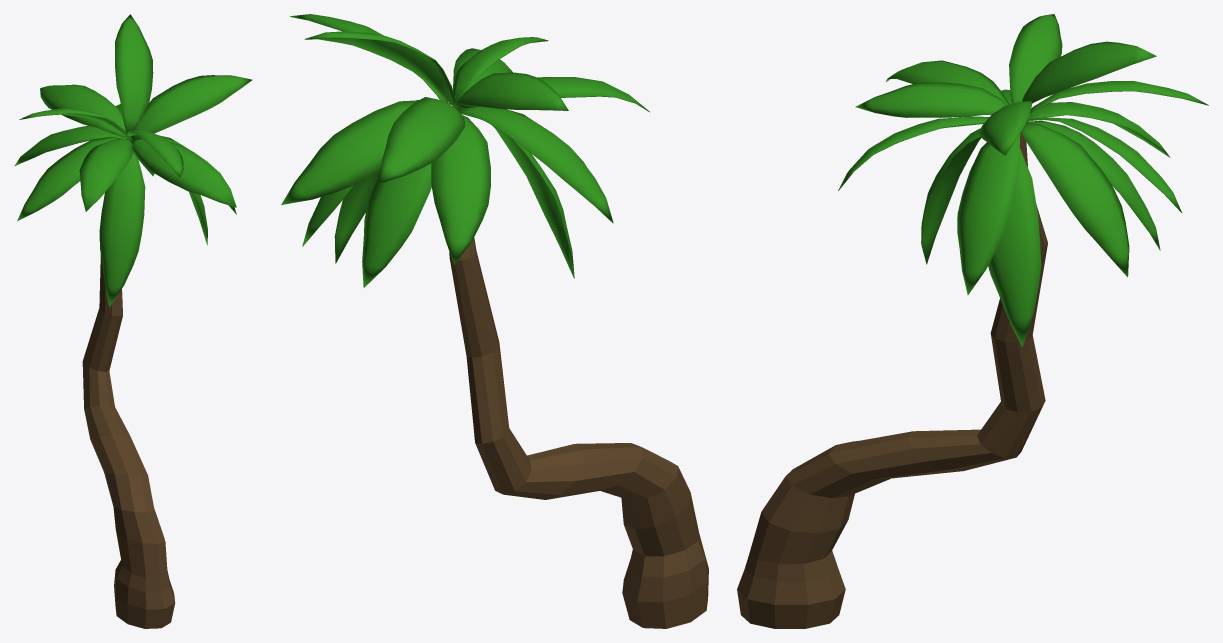
Rendered from Tree.fbx.
3 renders of one model, left to right at view 1: azimuth 30°, elevation 25°; view 2: azimuth 150°, elevation 25°; view 3: azimuth 270°, elevation 25°, orthographic. The views are drawn at different scales.
Visible parts, largest first — view 1: Circle, Sphere.102, Sphere.098, Sphere.103, Sphere.095, Sphere.096, Sphere.089, Sphere.092, Sphere.090, Sphere.099, Sphere.100, Sphere.101; view 2: Circle, Sphere.090, Sphere.094, Sphere.093, Sphere.092, Sphere.089, Sphere.100, Sphere.103, Sphere.102, Sphere.099, Sphere.101, Sphere.096 (+3 smaller); view 3: Circle, Sphere.091, Sphere.097, Sphere.101, Sphere.099, Sphere.103, Sphere.100, Sphere.102, Sphere.093, Sphere.096, Sphere.094, Sphere.090 (+3 smaller).
Boxes of the visible parts, <box> form: Circle: <box>82,139,175,628</box>; Sphere.102: <box>99,151,145,306</box>; Sphere.098: <box>130,75,252,139</box>; Sphere.103: <box>115,14,153,136</box>; Sphere.095: <box>129,139,236,207</box>; Sphere.096: <box>79,138,132,211</box>; Sphere.089: <box>17,137,128,221</box>; Sphere.092: <box>40,84,130,139</box>; Sphere.090: <box>14,125,126,166</box>; Sphere.099: <box>127,130,183,177</box>; Sphere.100: <box>19,108,130,138</box>; Sphere.101: <box>189,191,207,245</box>; Circle: <box>449,237,708,628</box>; Sphere.090: <box>431,115,490,264</box>; Sphere.094: <box>281,100,418,204</box>; Sphere.093: <box>362,163,431,287</box>; Sphere.092: <box>378,97,465,183</box>; Sphere.089: <box>457,106,613,223</box>; Sphere.100: <box>452,72,568,110</box>; Sphere.103: <box>304,31,453,106</box>; Sphere.102: <box>461,112,574,278</box>; Sphere.099: <box>453,37,548,103</box>; Sphere.101: <box>334,170,379,263</box>; Sphere.096: <box>455,77,649,112</box>; Circle: <box>737,132,1047,628</box>; Sphere.091: <box>1021,123,1129,277</box>; Sphere.097: <box>957,133,1020,295</box>; Sphere.101: <box>988,147,1041,347</box>; Sphere.099: <box>855,82,1007,117</box>; Sphere.103: <box>1022,41,1156,103</box>; Sphere.100: <box>1009,14,1062,103</box>; Sphere.102: <box>921,128,981,264</box>; Sphere.093: <box>1026,120,1160,250</box>; Sphere.096: <box>886,60,1009,105</box>; Sphere.094: <box>1027,117,1181,212</box>; Sphere.090: <box>1027,102,1170,157</box>.
Bounding box in the file's own units: 327 × 637 × 425.
